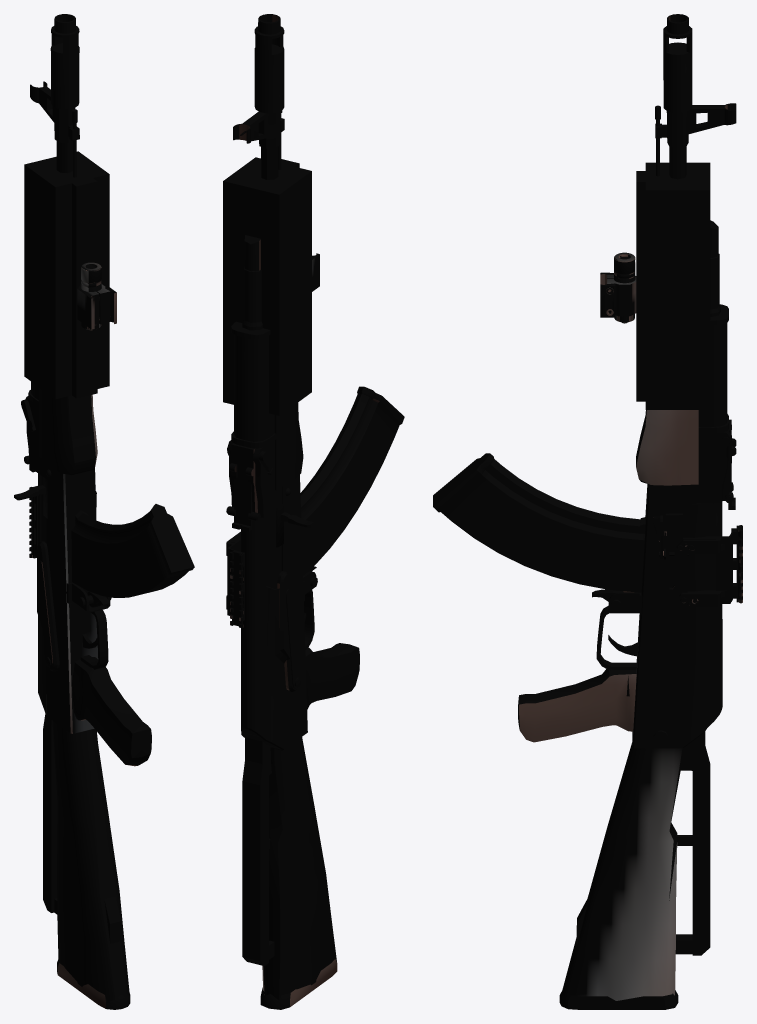
File: AK74__Handguard_AK_Quad__Light_Pistol__Mount_AK_SideRail__Stock_AK_Folding.fbx
3 renders of one model, left to right at view 1: azimuth 30°, elevation 25°; view 2: azimuth 150°, elevation 25°; view 3: azimuth 270°, elevation 25°, orthographic. The views are drawn at different scales.
Parts seen in each view (by area): view 1: asset_AK74.001; view 2: asset_AK74.001; view 3: asset_AK74.001.
Part boxes in pixels (box(x1,y1,x2,y2)): asset_AK74.001: box(14, 14, 194, 1009); asset_AK74.001: box(223, 14, 404, 1009); asset_AK74.001: box(433, 14, 742, 1009).
Bounding box in the file's own units: 0.046 × 0.564 × 0.1608.
